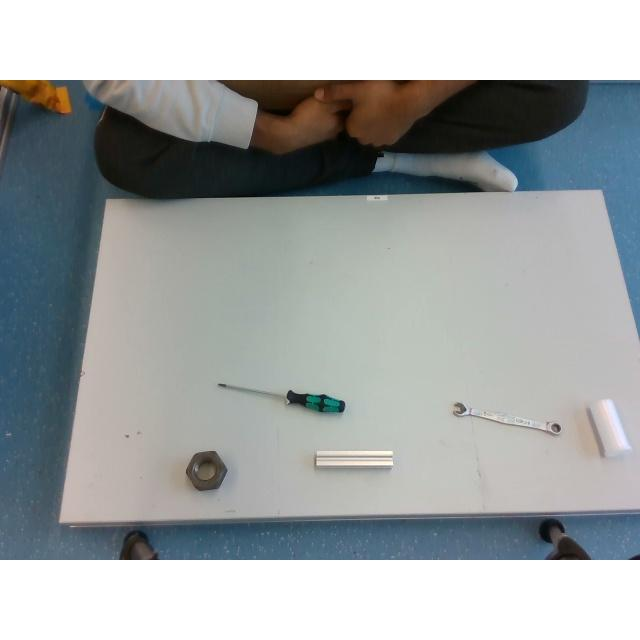F20_20_G: (315, 450, 393, 468)
M30: (186, 450, 227, 490)
Screwdriver: (217, 382, 345, 413)
Spacer: (588, 399, 630, 456)
Wrench: (450, 402, 562, 434)
